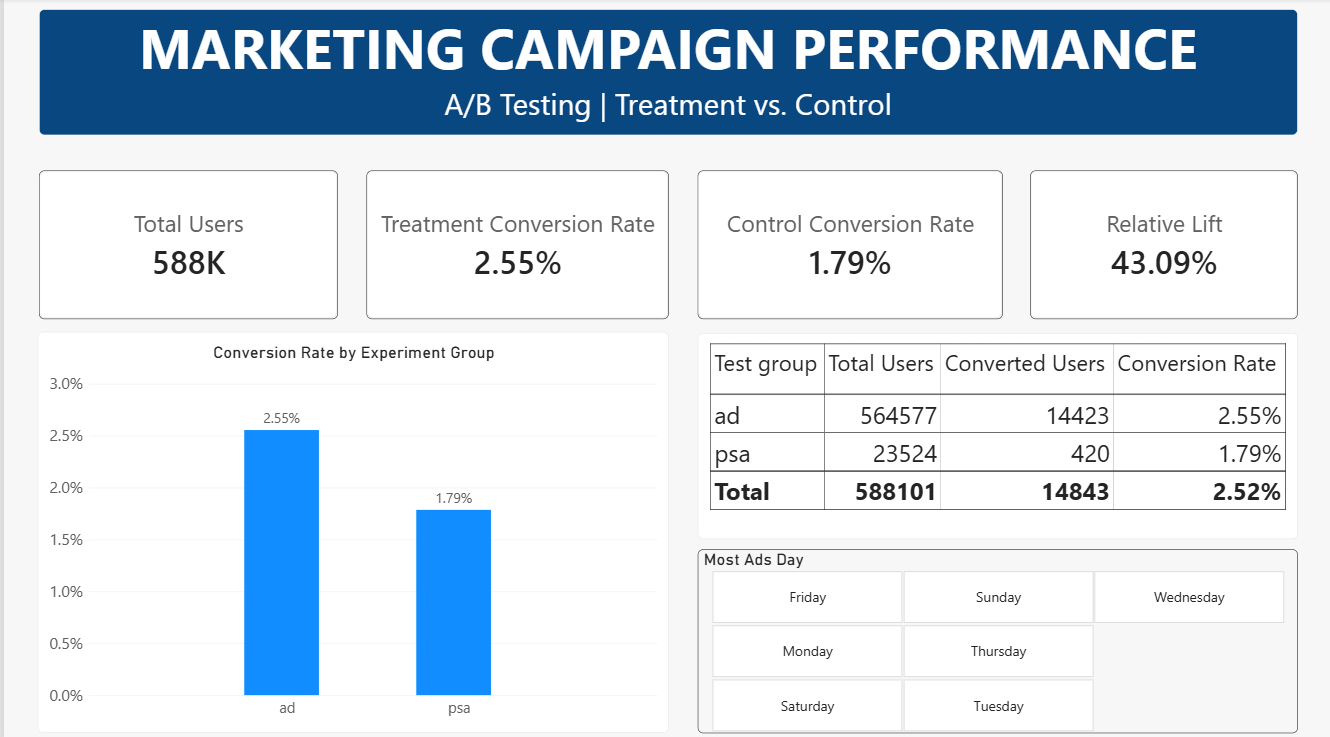

Layout of this report page (visuals, bound fields, positions):
{"tool":"powerbi","page":{"name":"Campaign Overview","canvas":[1920,1080],"ordinal":0},"visuals":[{"type":"textbox","box":[50.7,16.3,1822.3,182.8],"z":0},{"type":"cardVisual","fields":{"Data":["tblAB.Total Users"]},"box":[50.7,249.7,432.5,215.3],"z":1},{"type":"cardVisual","fields":{"Data":["tblAB.Treatment Conversion Rate"]},"box":[524.8,249.7,437.9,215.3],"z":2},{"type":"cardVisual","fields":{"Data":["tblAB.Control Conversion Rate"]},"box":[1004.4,249.7,441.6,215.3],"z":3},{"type":"cardVisual","fields":{"Data":["tblAB.Relative Lift"]},"box":[1485.7,249.7,387.3,215.3],"z":4},{"type":"clusteredColumnChart","title":"Conversion Rate by Experiment Group","fields":{"Category":["tblAB.test group"],"Y":["tblAB.Conversion Rate"]},"box":[48.9,483.2,913.9,580.9],"z":5},{"type":"tableEx","fields":{"Values":["tblAB.test group","tblAB.Total Users","tblAB.Converted Users","tblAB.Conversion Rate"]},"box":[1004.4,485,868.6,298.6],"z":6},{"type":"slicer","fields":{"Values":["tblAB.most ads day"]},"box":[1004.4,798.1,868.6,266],"z":7}]}

Visuals, with their boxes in screenshot pixels (x1, y1, x2, y2), scaled from the page's 1920x1080 canvas onto the 1330x737 screenshot:
textbox: (left=35, top=11, right=1297, bottom=136)
cardVisual - tblAB.Total Users: (left=35, top=170, right=335, bottom=317)
cardVisual - tblAB.Treatment Conversion Rate: (left=364, top=170, right=667, bottom=317)
cardVisual - tblAB.Control Conversion Rate: (left=696, top=170, right=1002, bottom=317)
cardVisual - tblAB.Relative Lift: (left=1029, top=170, right=1297, bottom=317)
"Conversion Rate by Experiment Group" clusteredColumnChart: (left=34, top=330, right=667, bottom=726)
tableEx - tblAB.test group x tblAB.Total Users: (left=696, top=331, right=1297, bottom=535)
slicer - tblAB.most ads day: (left=696, top=545, right=1297, bottom=726)
